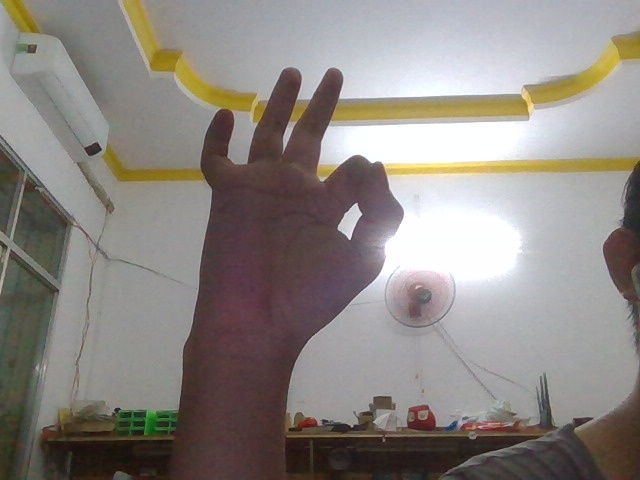okay: (161, 43, 426, 370)
